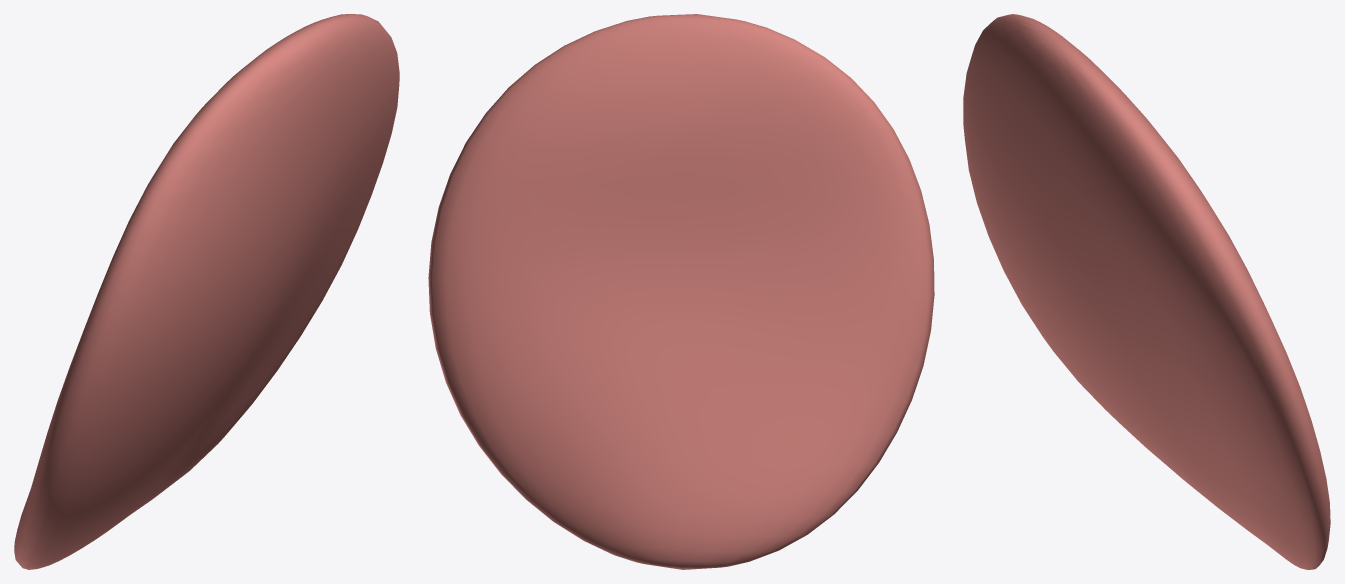
3 views of the same model, side by side, from view 1: azimuth 30°, elevation 25°; view 2: azimuth 150°, elevation 25°; view 3: azimuth 270°, elevation 25° (orthographic). The views are drawn at different scales.
Parts seen in each view (by area): view 1: ZA_6625b1050576c9c6; view 2: ZA_6625b1050576c9c6; view 3: ZA_6625b1050576c9c6.
Part boxes in pixels (left/top/right/bottom): ZA_6625b1050576c9c6: left=14, top=14, right=399, bottom=569; ZA_6625b1050576c9c6: left=428, top=14, right=934, bottom=569; ZA_6625b1050576c9c6: left=963, top=14, right=1330, bottom=569.
Bounding box in the file's own units: 0.0191 × 0.022 × 0.0133.
